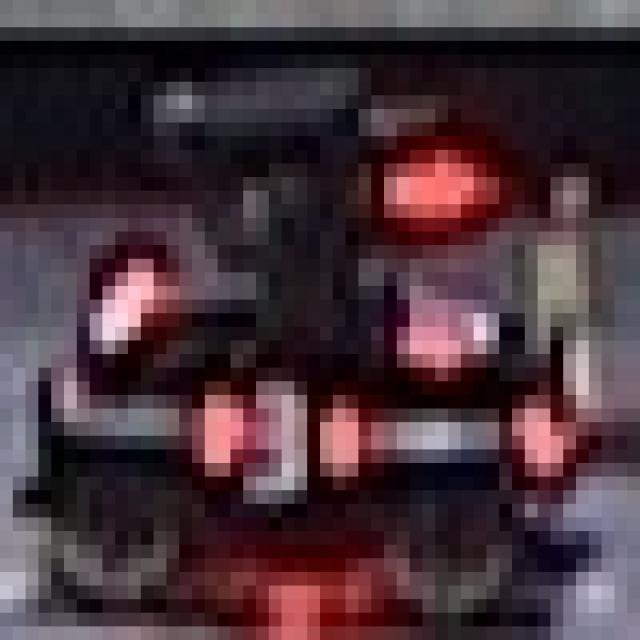R3: (192, 354, 358, 517)
